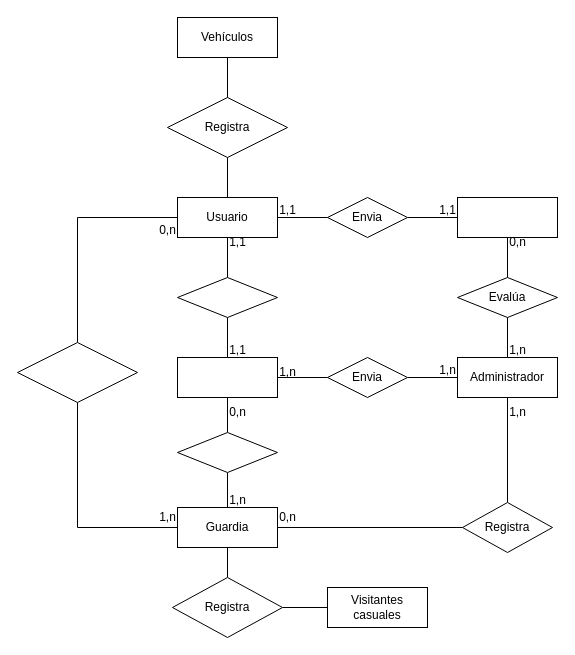
The diagram is 575 pixels wide and 655 high, and some of its shapes have lost their labels. The shapes that lost their labels are listed below. From the top down, each one's box as (x1, y1, x2, y2) in pixels, then its label:
(456, 196, 558, 238): Solicitud
(176, 276, 278, 318): Recibe
(16, 342, 138, 402): Permite acceso
(176, 356, 278, 398): Códigos QR
(176, 432, 278, 472): Revisa
